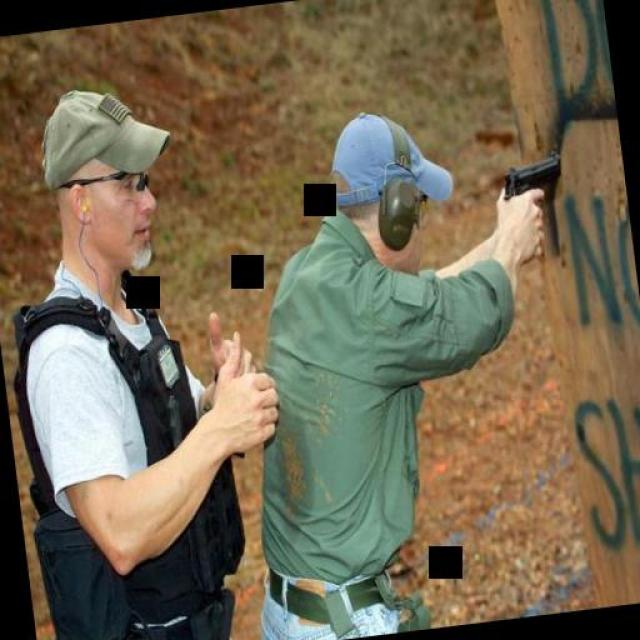gun: (495, 146, 569, 210)
